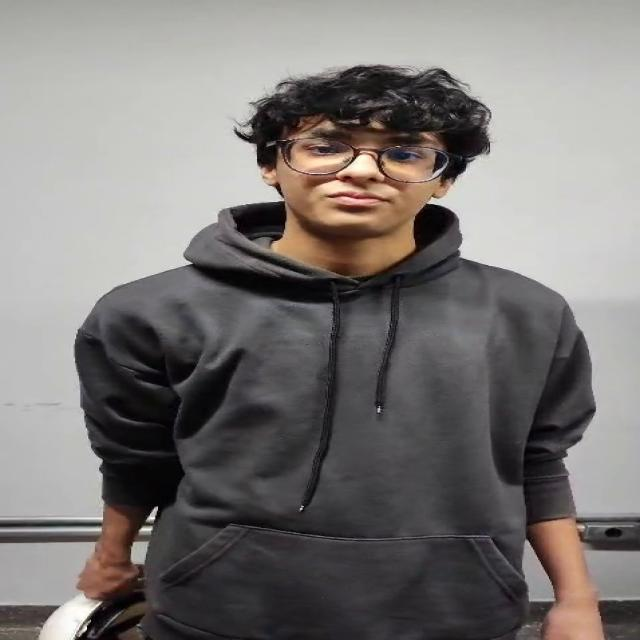sem_capacete: (196, 45, 508, 278)
